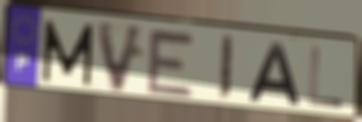A: (245, 40, 302, 107)
E: (145, 26, 198, 101)
I: (216, 33, 236, 104)
L: (307, 45, 345, 111)
M: (41, 18, 96, 88)
V: (94, 18, 148, 96)
